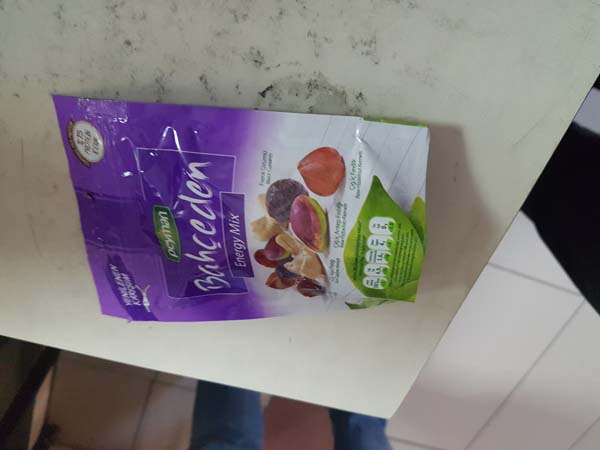bahcedenenergymix: (47, 91, 426, 325)
